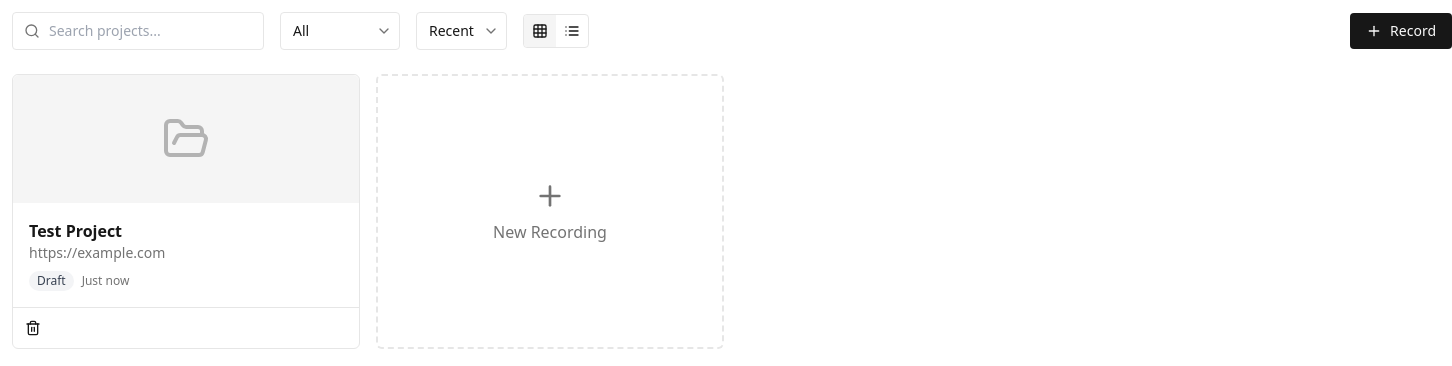
Test case: ProjectList › should toggle between grid and list view
Expected: the element that starts with "Test Project" is shown, [12, 74, 724, 349]
// Switch to list view
Click the button titled "List view": (572, 31) [556, 15, 588, 47]
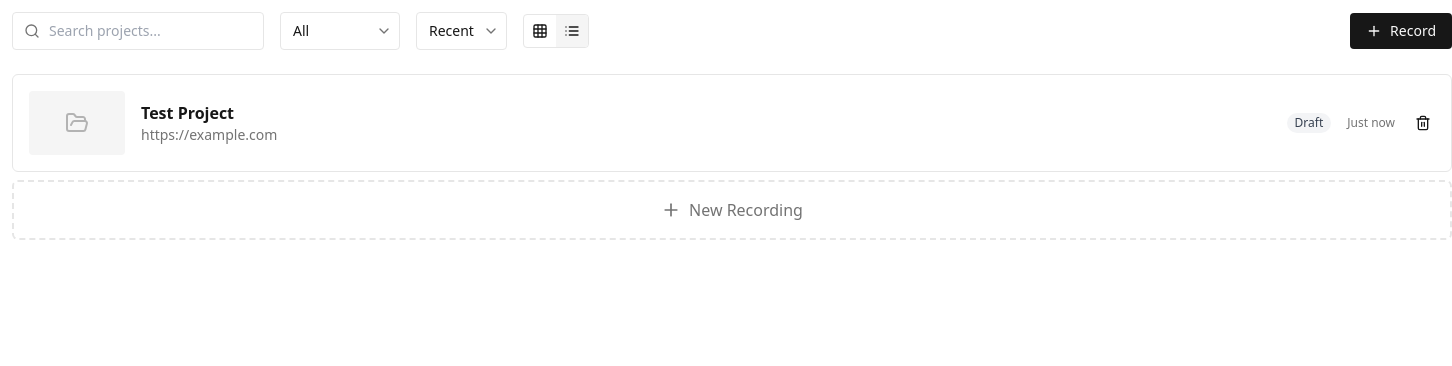
Expected: the element that starts with "Test Project" is shown, [12, 74, 1451, 240]
// Switch back to grid view
Click the button titled "Grid view": (540, 31) [524, 15, 556, 47]
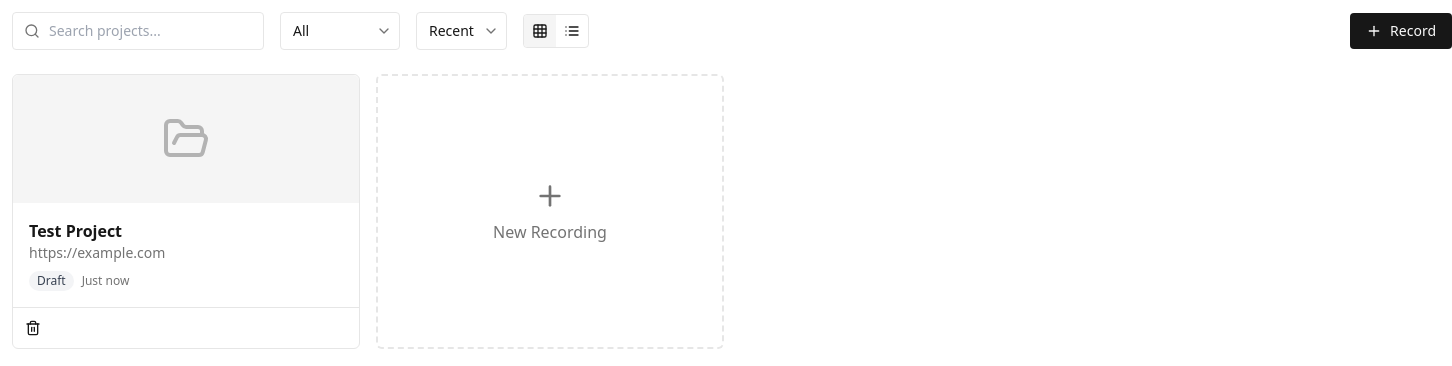
Expected: the element that starts with "Test Project" is shown, [12, 74, 724, 349]
